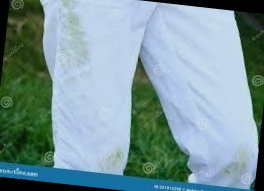earth: (58, 17, 92, 74), (102, 146, 125, 169), (229, 149, 250, 174), (61, 0, 79, 17)
